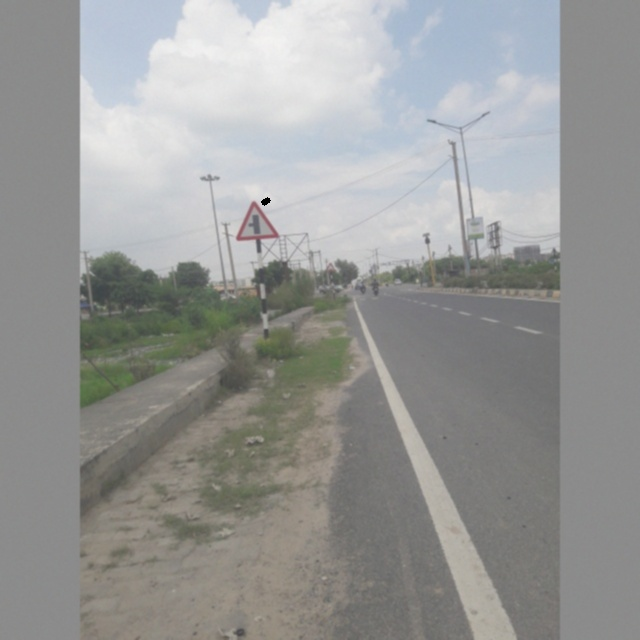Side_Road_Left: (228, 195, 281, 247)
